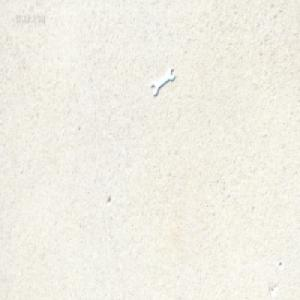Wrench: (151, 67, 175, 97)
